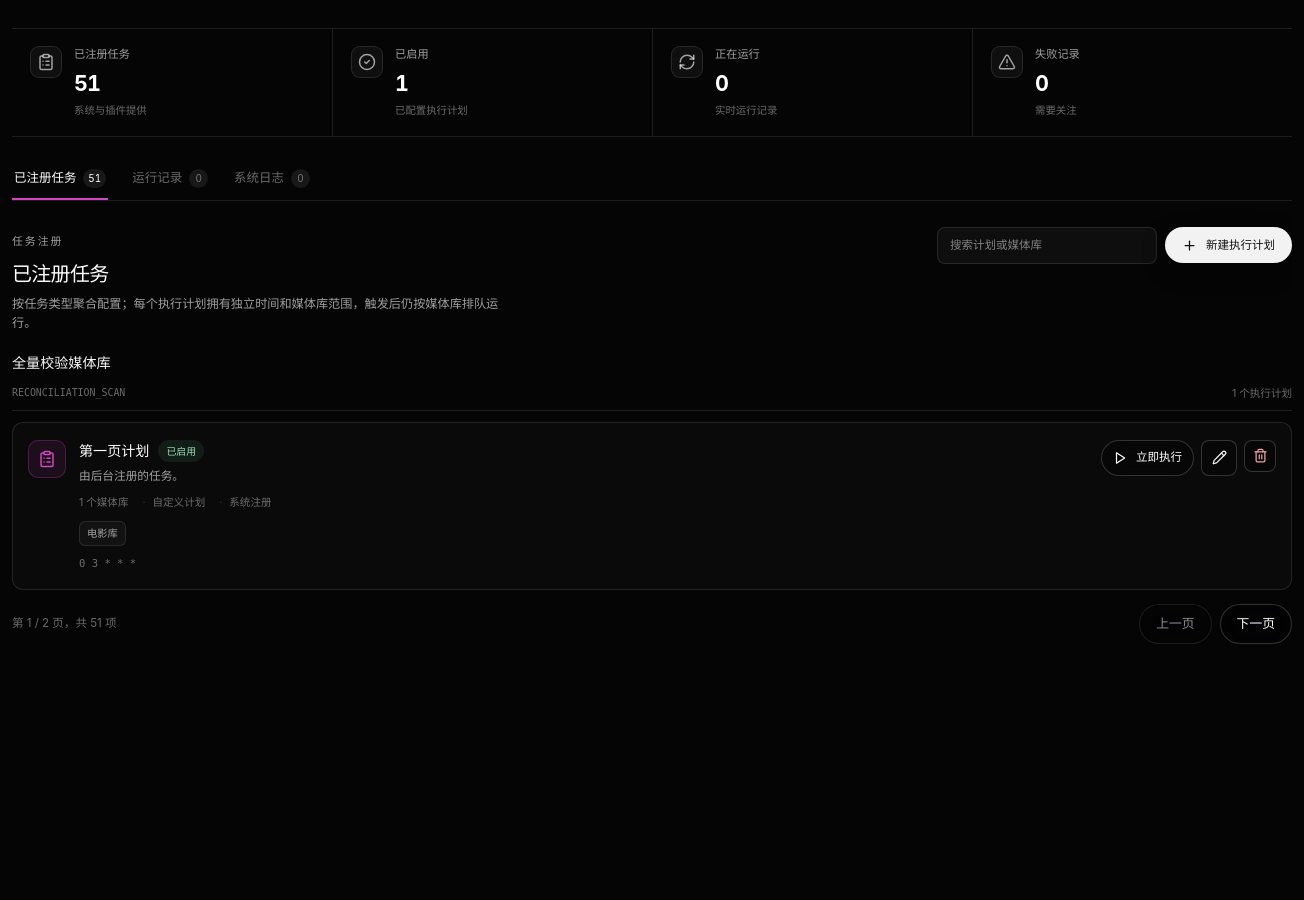
Test: AdminOperationsPage › returns to the previous available plan page after deleting its last item
Click the button "下一页": click(1256, 624) [1220,604,1292,644]
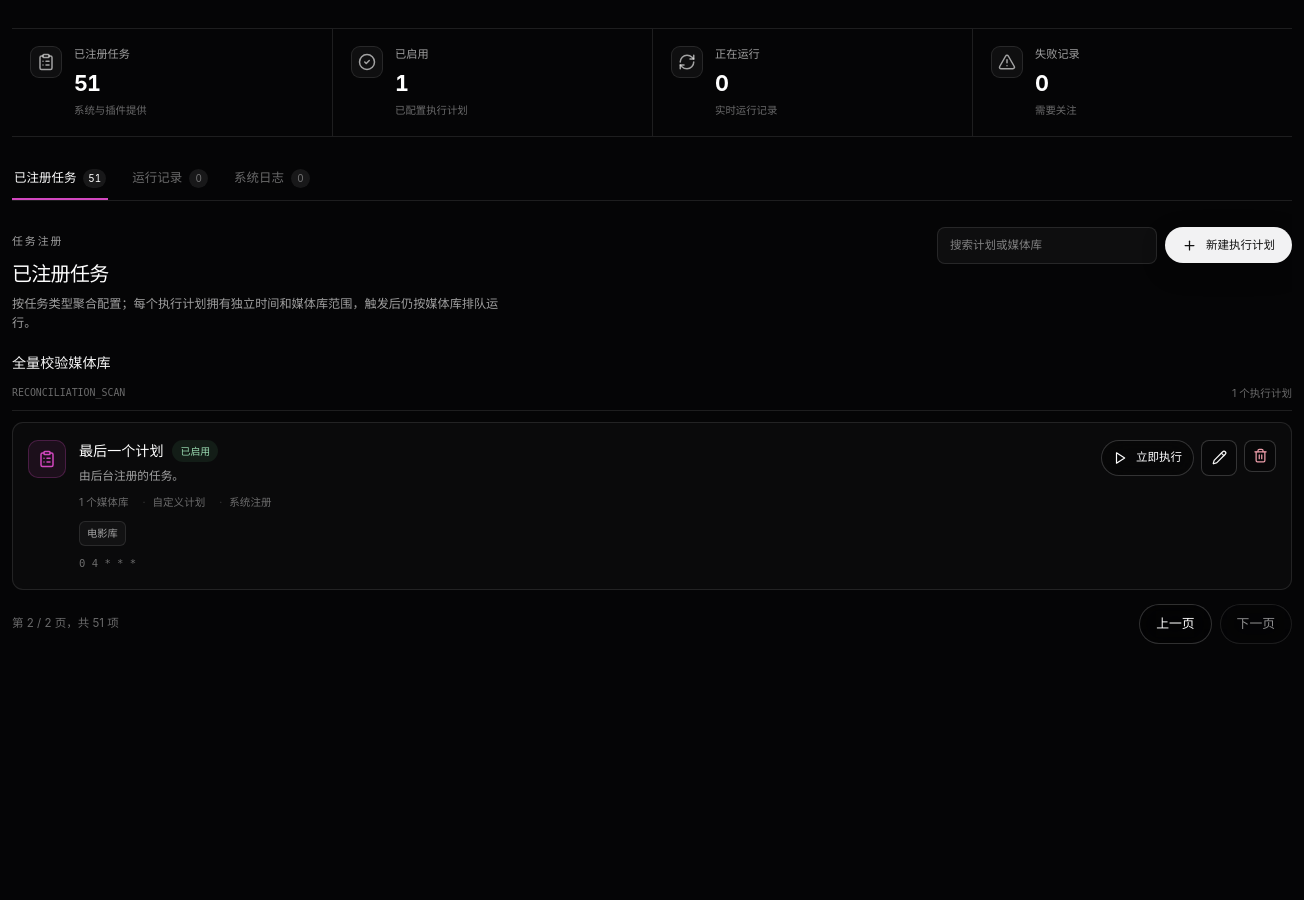
Expected: the text "最后一个计划" is shown, [79,440,164,462]
Click the button named "删除最后一个计划": click(1260, 456) [1244,440,1276,472]
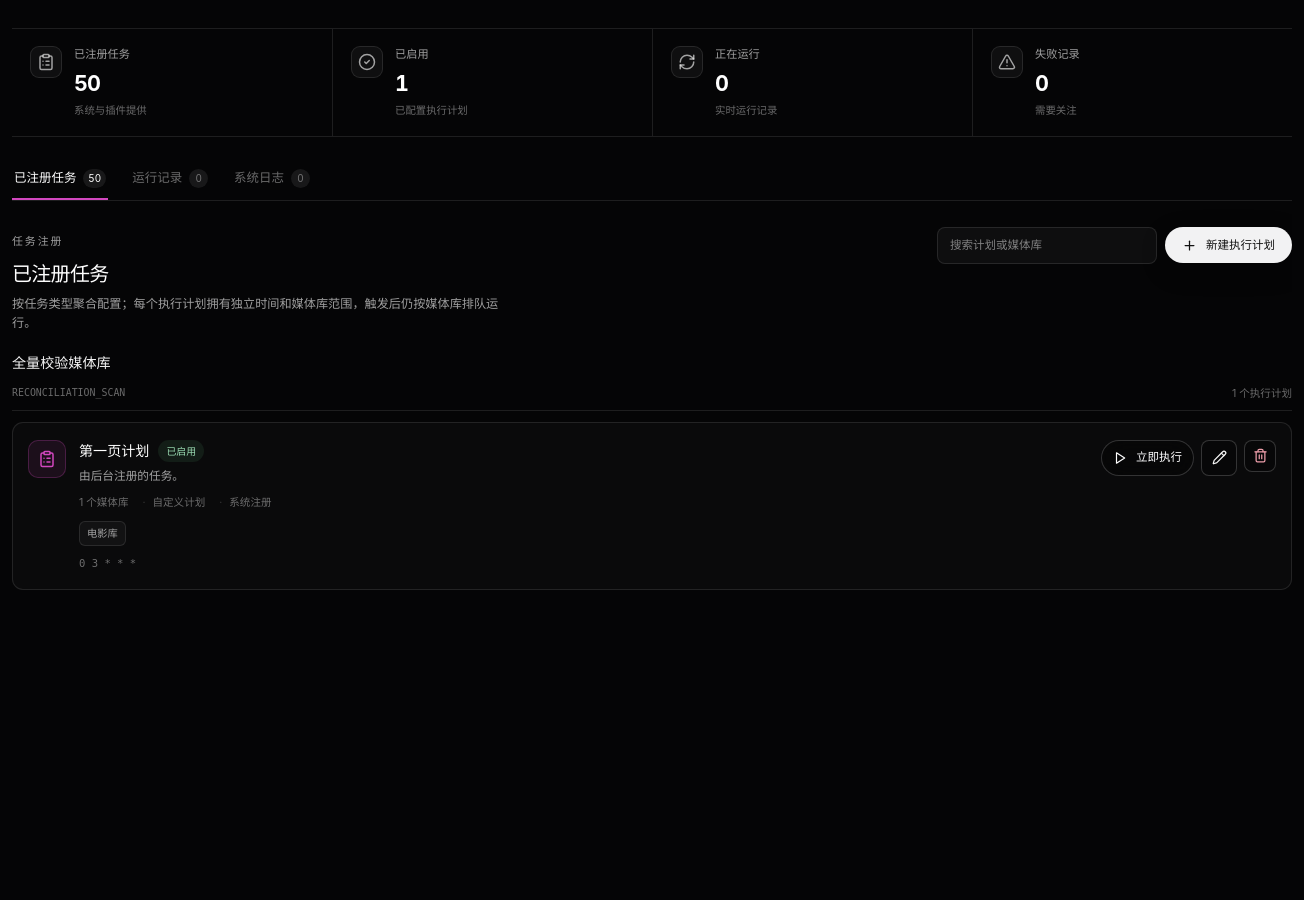
Expected: the text "第一页计划" is shown, [79,440,149,462]
Expected: the text "最后一个计划" is gone
